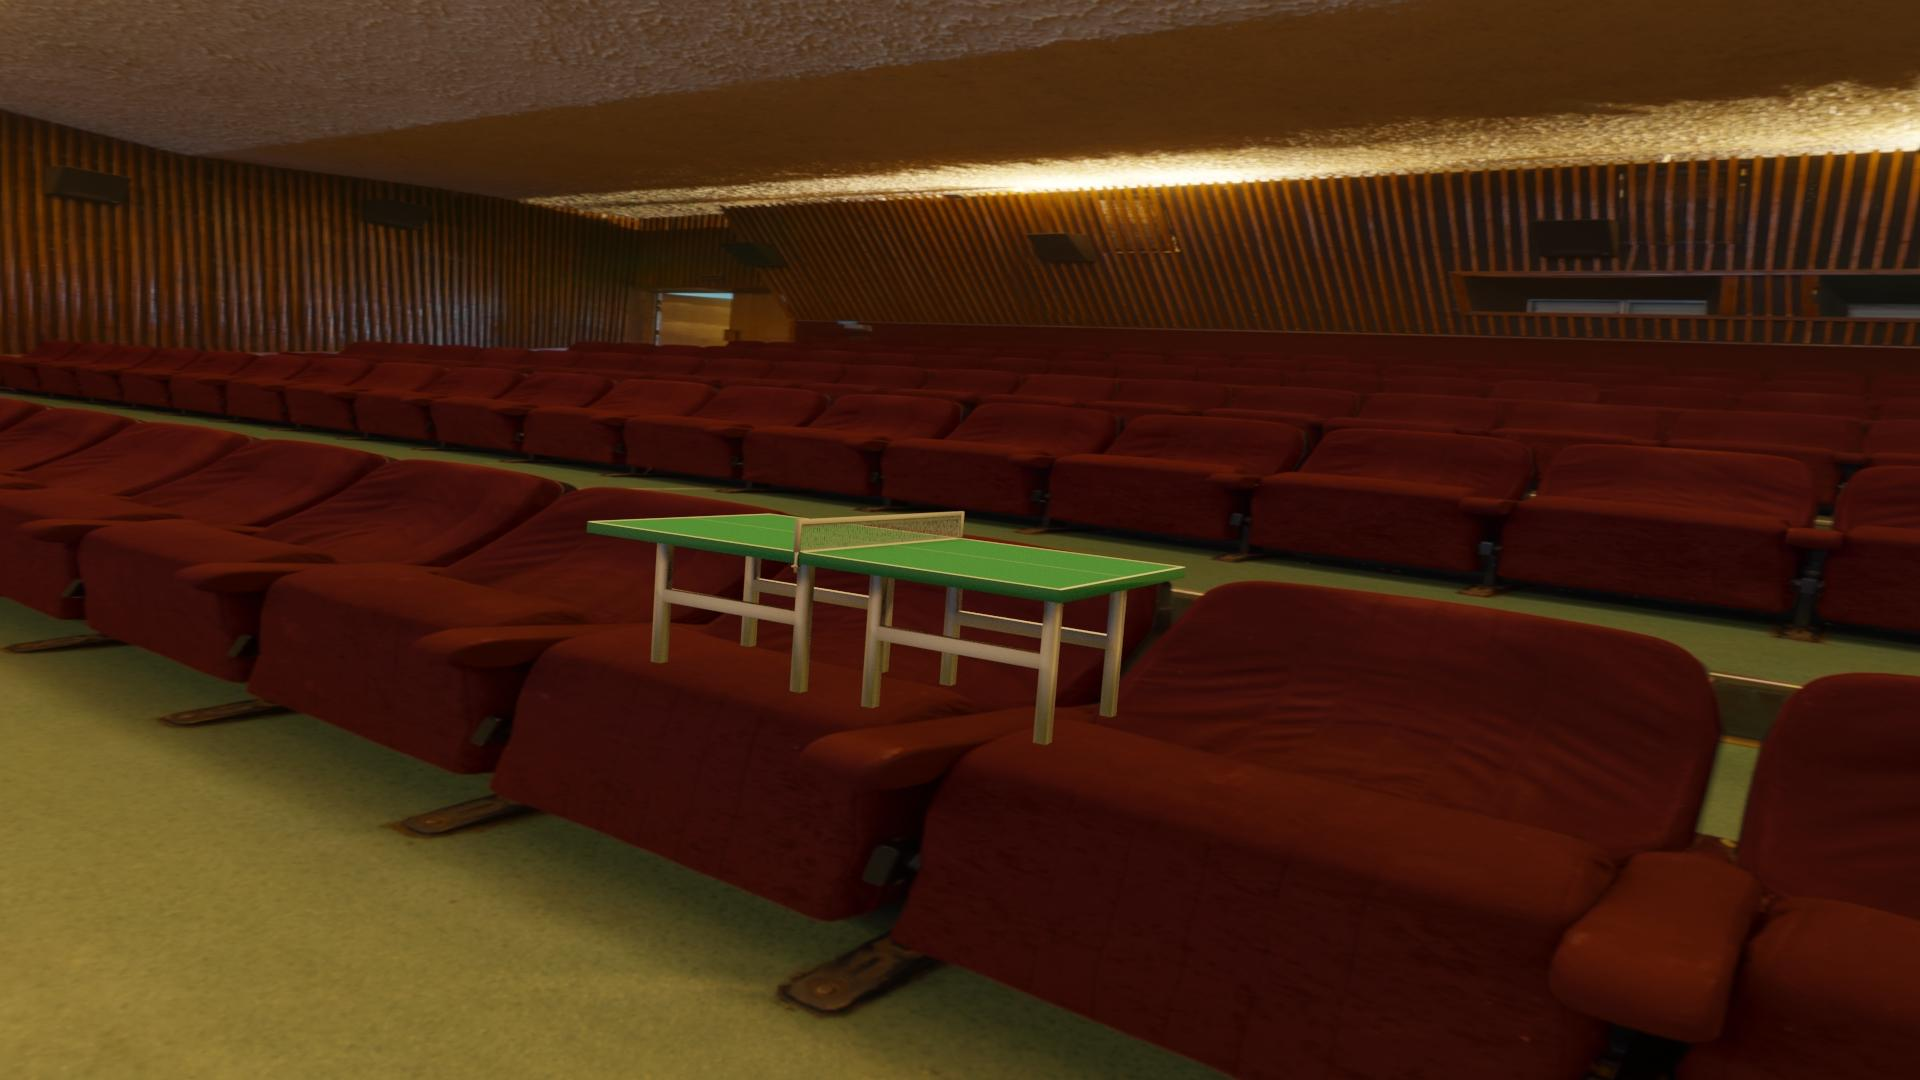table: (593, 514, 1180, 589)
